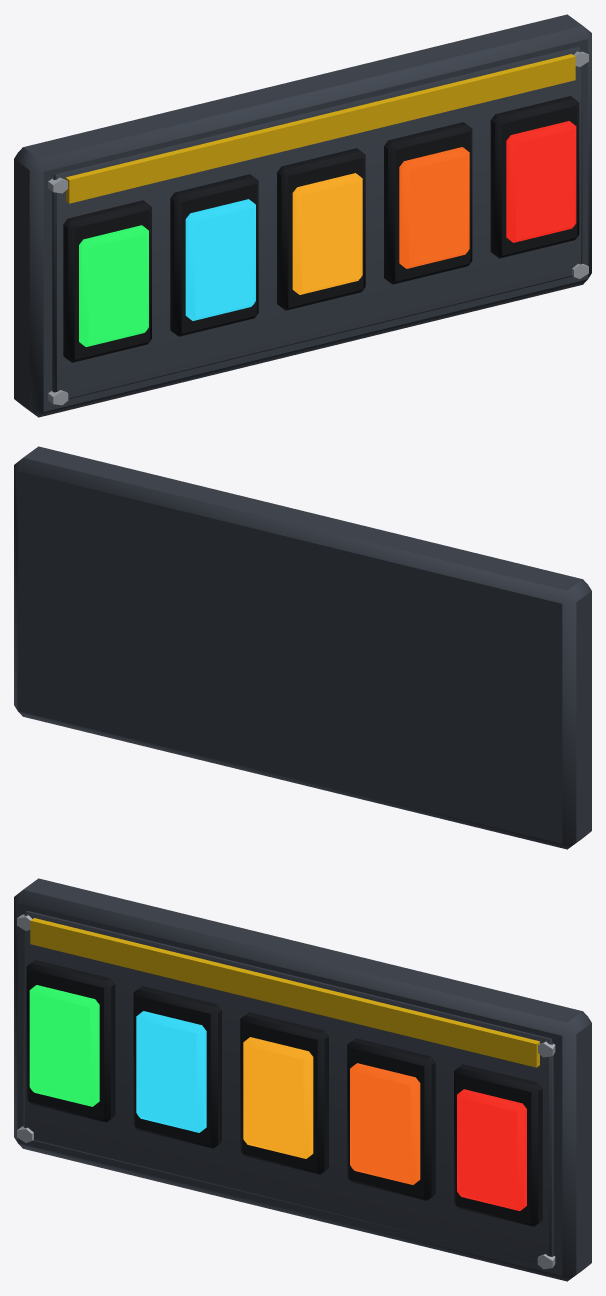
Rendered from controlpanel_alert_level.glb.
3 renders of one model, top to bottom at view 1: azimuth 30°, elevation 25°; view 2: azimuth 150°, elevation 25°; view 3: azimuth 330°, elevation 25°, orthographic.
Parts seen in each view (by area): view 1: controlpanel_alert_level; view 2: controlpanel_alert_level; view 3: controlpanel_alert_level.
Part boxes in pixels (x1,y1,x2,y2): controlpanel_alert_level: (14, 14, 591, 417); controlpanel_alert_level: (14, 446, 591, 849); controlpanel_alert_level: (14, 878, 591, 1281).
Size of the model in its own units: 0.5 by 0.22 by 0.064.
